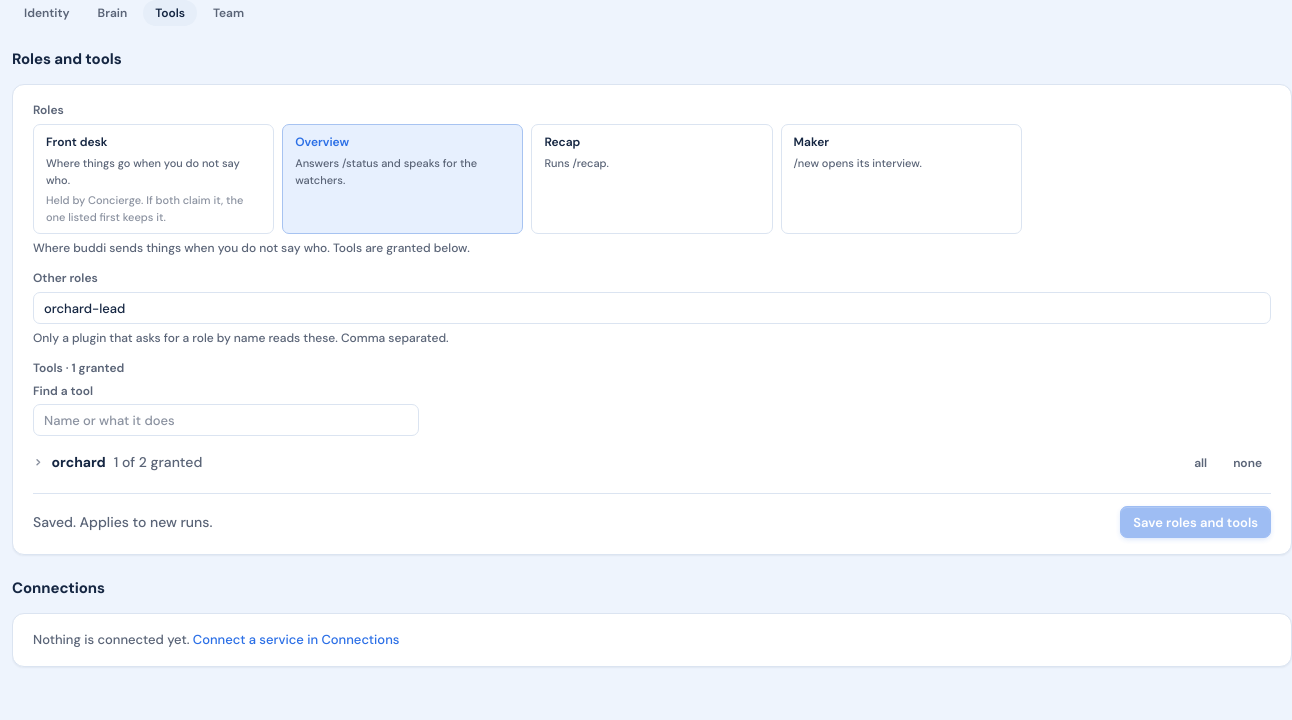
counts an unchanged set of roles as saved, whatever order the file lists them in
The width and height of the screenshot is (1292, 720).
Expected: the element named "Roles" is shown, [33,124,1022,234]
Expected: the button "Save roles and tools" is disabled, [1120,506,1271,538]
Click the button "Overview Answers /status and speaks for the watchers." at (403, 179), box [282,124,523,234]
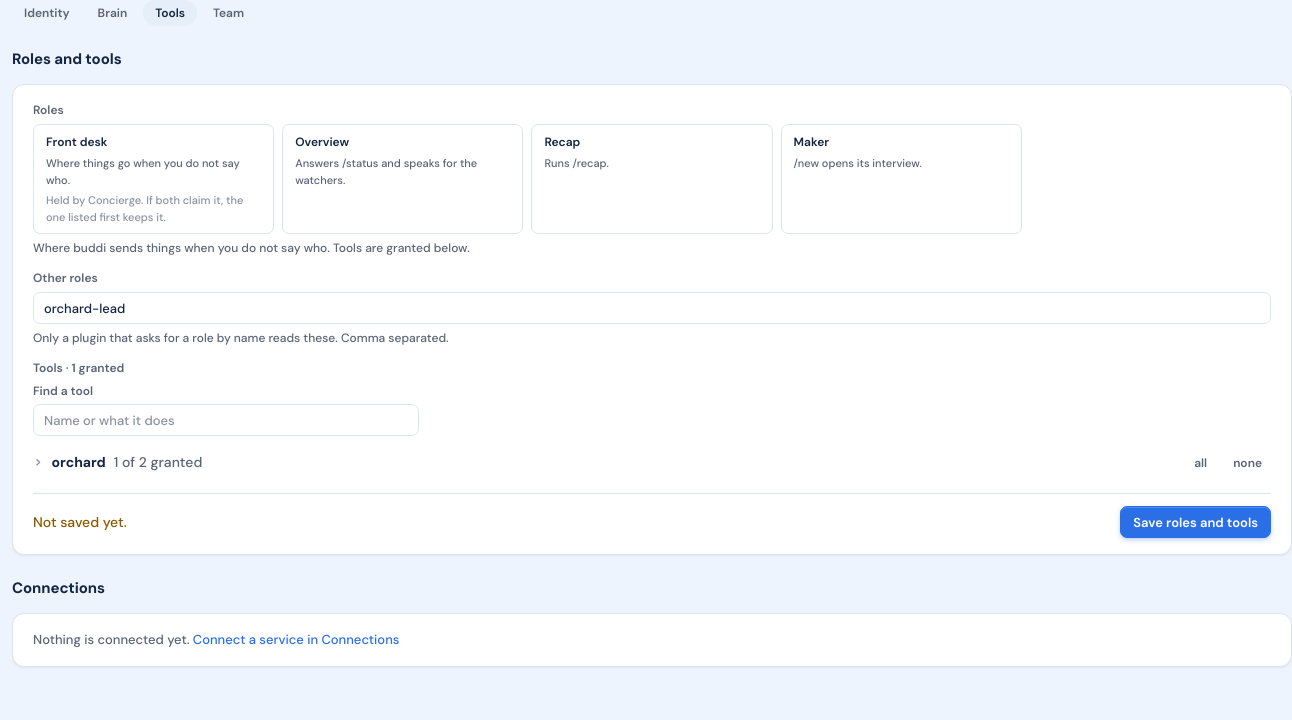
Result: the button "Save roles and tools" is enabled at [1120,506,1271,538]
Click the button "Overview Answers /status and speaks for the watchers." at (403, 179), box [282,124,523,234]
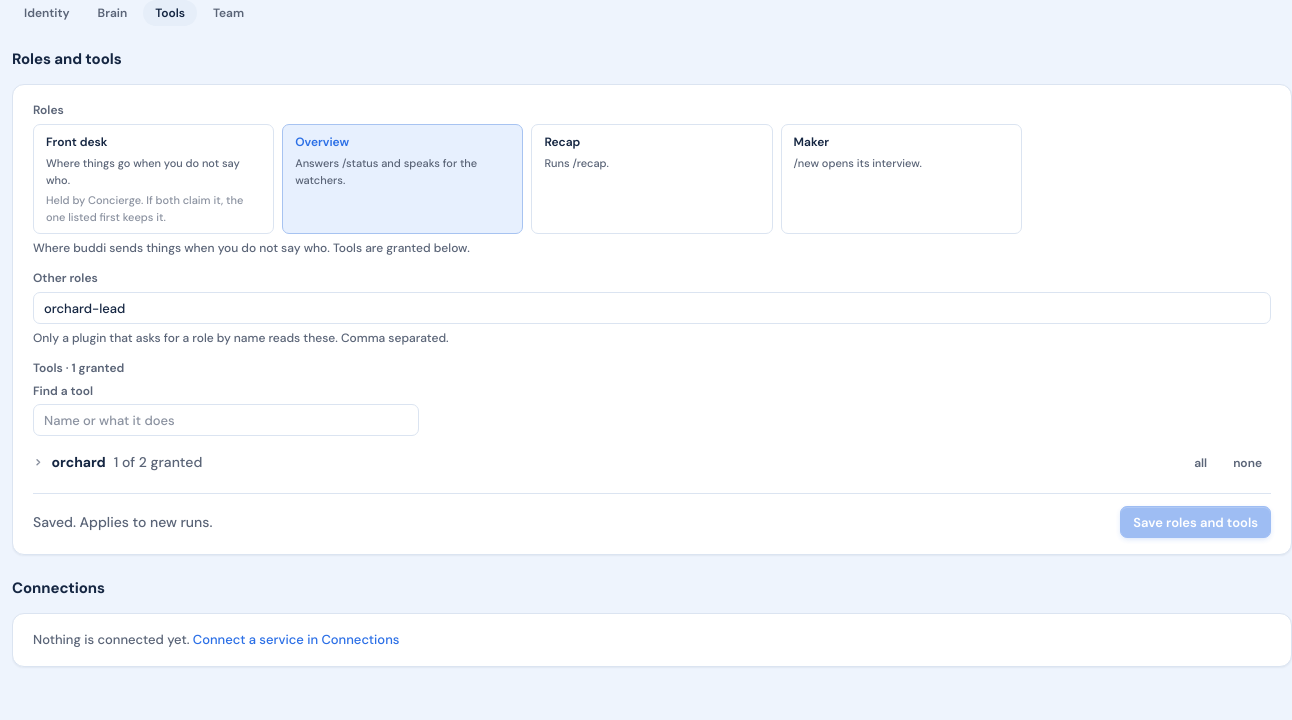
Result: the button "Save roles and tools" is disabled at [1120,506,1271,538]
